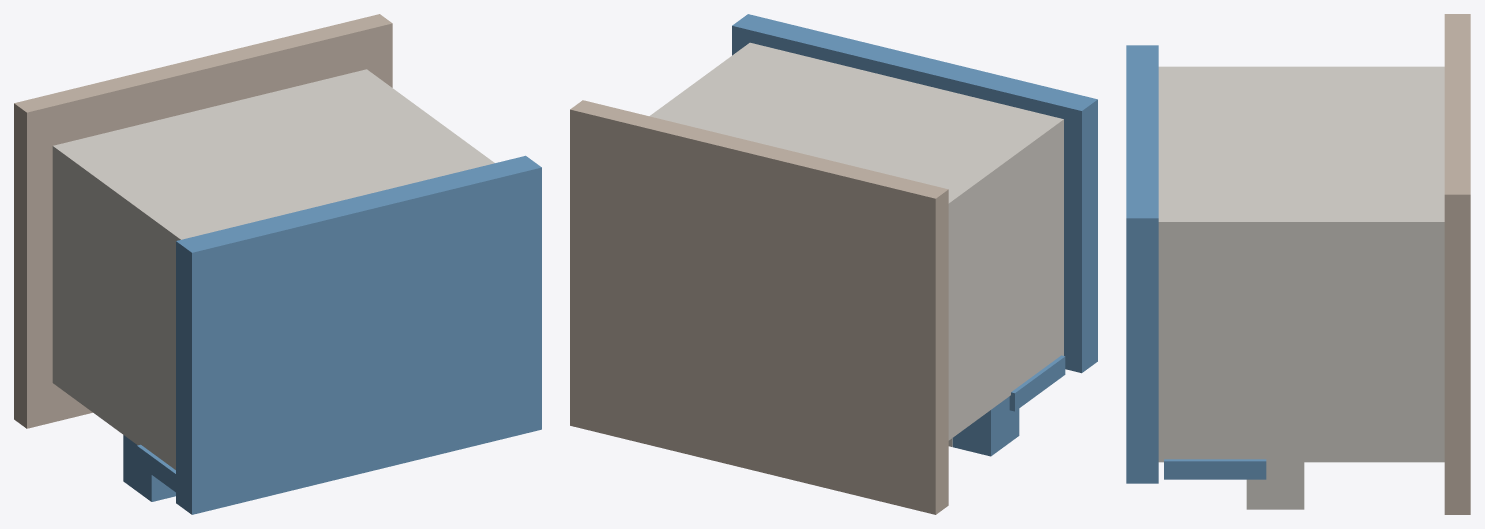
File: pharmacy_lod2.glb
3 renders of one model, left to right at view 1: azimuth 30°, elevation 25°; view 2: azimuth 150°, elevation 25°; view 3: azimuth 270°, elevation 25°, orthographic.
Visible parts, largest first — view 1: roof_2, walls_1, plinth_0, awning_5, signboard_3; view 2: plinth_0, walls_1, roof_2, awning_5, signboard_3; view 3: walls_1, roof_2, plinth_0, awning_12, signboard_3.
Part boxes in pixels (x1,y1,x2,y2): roof_2: (176, 155, 541, 514); walls_1: (52, 69, 494, 469); plinth_0: (14, 14, 392, 428); awning_5: (123, 435, 175, 501); signboard_3: (137, 444, 175, 492); plinth_0: (570, 100, 948, 514); walls_1: (649, 42, 1063, 440); roof_2: (732, 14, 1097, 373); awning_5: (952, 396, 1019, 456); signboard_3: (1009, 355, 1065, 411); walls_1: (1158, 66, 1444, 462); roof_2: (1126, 45, 1158, 483); plinth_0: (1444, 14, 1470, 514); awning_12: (1246, 462, 1304, 509); signboard_3: (1164, 459, 1266, 479).
Size of the model in its own units: 4.6 by 3.9 by 3.7.
